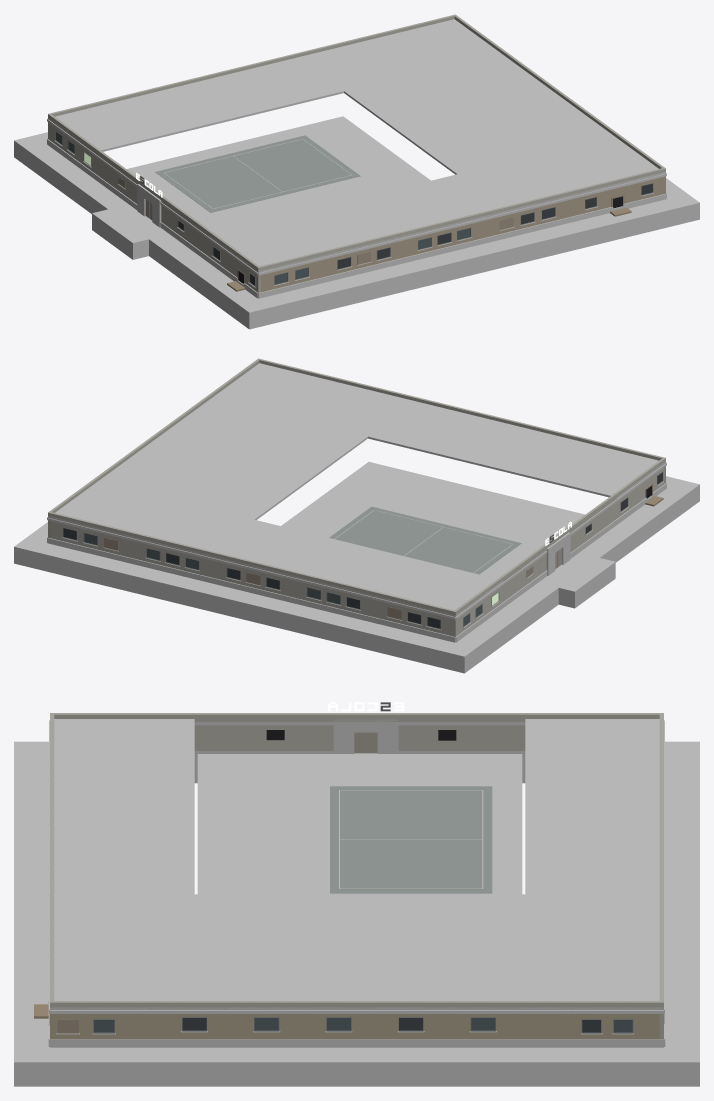
The model's file is escola_exterior.gltf.
The picture shows the model from 3 angles, top to bottom: view 1: azimuth 30°, elevation 25°; view 2: azimuth 150°, elevation 25°; view 3: azimuth 270°, elevation 25°; orthographic projection. The views are drawn at different scales.
Visible parts, largest first — view 1: ext_00_04, ext_01_04, ext_03_04, ext_02_04, ext_00_00, ext_04_04, ext_01_00, ext_02_00, ext_03_00, ext_02_01, ext_03_03, ext_03_01 (+19 smaller); view 2: ext_00_00, ext_03_00, ext_01_00, ext_02_00, ext_00_03, ext_04_00, ext_01_03, ext_02_03, ext_02_02, ext_03_03, ext_03_01, ext_03_02 (+24 smaller); view 3: ext_04_00, ext_04_03, ext_04_01, ext_04_02, ext_00_02, ext_00_01, ext_00_03, ext_00_00, ext_03_00, ext_03_03, ext_03_01, ext_03_02 (+18 smaller).
Boxes of the visible parts, x1=… form: ext_00_04: x1=246, y1=241, x2=356, y2=323; ext_01_04: x1=332, y1=220, x2=442, y2=303; ext_03_04: x1=504, y1=178, x2=614, y2=261; ext_02_04: x1=418, y1=199, x2=528, y2=282; ext_00_00: x1=48, y1=93, x2=182, y2=174; ext_04_04: x1=590, y1=159, x2=699, y2=240; ext_01_00: x1=134, y1=72, x2=268, y2=155; ext_02_00: x1=220, y1=51, x2=354, y2=134; ext_03_00: x1=305, y1=30, x2=440, y2=90; ext_02_01: x1=269, y1=90, x2=403, y2=171; ext_03_03: x1=454, y1=142, x2=588, y2=199; ext_03_01: x1=355, y1=69, x2=489, y2=126; ext_00_00: x1=369, y1=559, x2=504, y2=636; ext_03_00: x1=112, y1=495, x2=246, y2=573; ext_01_00: x1=284, y1=538, x2=416, y2=615; ext_02_00: x1=198, y1=516, x2=330, y2=594; ext_00_03: x1=519, y1=449, x2=653, y2=527; ext_04_00: x1=27, y1=476, x2=161, y2=552; ext_01_03: x1=433, y1=428, x2=567, y2=509; ext_02_03: x1=347, y1=407, x2=481, y2=488; ext_02_02: x1=297, y1=443, x2=431, y2=524; ext_03_03: x1=261, y1=386, x2=395, y2=443; ext_03_01: x1=162, y1=459, x2=296, y2=515; ext_03_02: x1=211, y1=422, x2=346, y2=479; ext_04_00: x1=519, y1=957, x2=663, y2=1086; ext_04_03: x1=86, y1=961, x2=230, y2=1086; ext_04_01: x1=375, y1=961, x2=519, y2=1086; ext_04_02: x1=230, y1=961, x2=374, y2=1086; ext_00_02: x1=230, y1=713, x2=374, y2=813; ext_00_01: x1=375, y1=713, x2=519, y2=813; ext_00_03: x1=86, y1=713, x2=230, y2=813; ext_00_00: x1=519, y1=713, x2=663, y2=813; ext_03_00: x1=519, y1=896, x2=663, y2=961; ext_03_03: x1=86, y1=900, x2=230, y2=961; ext_03_01: x1=375, y1=900, x2=519, y2=961; ext_03_02: x1=230, y1=900, x2=374, y2=961.
Size of the model in its own units: 87 by 9.6 by 76.
